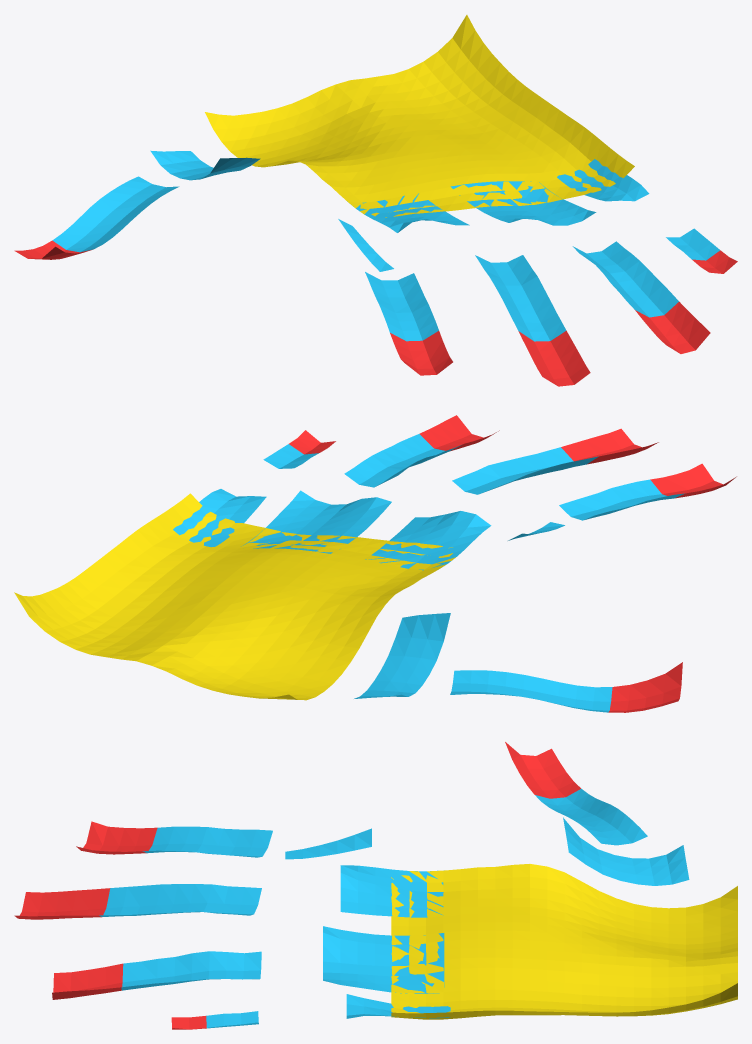
Rendered from hand0423g_finger_thirds_and_palm_aligned.obj.
3 renders of one model, top to bottom at view 1: azimuth 30°, elevation 25°; view 2: azimuth 150°, elevation 25°; view 3: azimuth 270°, elevation 25°, orthographic. The views are drawn at different scales.
Parts seen in each view (by area): view 1: palm_rectified_palm, finger_to_palm_ring, finger_to_palm_middle, finger_to_palm_thumb, finger_to_palm_index, finger_to_palm_pinky, finger_tip_third_middle, finger_tip_third_ring, finger_tip_third_index, finger_tip_third_thumb; view 2: palm_rectified_palm, finger_to_palm_thumb, finger_to_palm_ring, finger_to_palm_middle, finger_to_palm_pinky, finger_to_palm_index, finger_tip_third_thumb, finger_tip_third_middle, finger_tip_third_index, finger_tip_third_ring, finger_tip_third_pinky; view 3: palm_rectified_palm, finger_to_palm_ring, finger_to_palm_middle, finger_to_palm_thumb, finger_to_palm_index, finger_tip_third_middle, finger_tip_third_thumb, finger_to_palm_pinky, finger_tip_third_ring, finger_tip_third_index.
Boxes of the visible parts, <box> form: palm_rectified_palm: <box>205,15,634,217</box>; finger_to_palm_ring: <box>450,181,678,317</box>; finger_to_palm_middle: <box>347,193,566,341</box>; finger_to_palm_thumb: <box>52,150,260,252</box>; finger_to_palm_index: <box>338,219,438,341</box>; finger_to_palm_pinky: <box>557,159,719,260</box>; finger_tip_third_middle: <box>518,330,590,386</box>; finger_tip_third_ring: <box>635,301,710,353</box>; finger_tip_third_index: <box>390,331,452,375</box>; finger_tip_third_thumb: <box>14,240,92,259</box>; palm_rectified_palm: <box>14,493,455,700</box>; finger_to_palm_thumb: <box>354,613,612,712</box>; finger_to_palm_ring: <box>241,434,460,553</box>; finger_to_palm_middle: <box>365,447,598,570</box>; finger_to_palm_pinky: <box>173,444,318,547</box>; finger_to_palm_index: <box>508,479,685,540</box>; finger_tip_third_thumb: <box>608,662,682,712</box>; finger_tip_third_middle: <box>561,428,658,464</box>; finger_tip_third_index: <box>650,463,736,498</box>; finger_tip_third_ring: <box>419,415,499,451</box>; finger_tip_third_pinky: <box>289,430,335,454</box>; palm_rectified_palm: <box>391,864,737,1019</box>; finger_to_palm_ring: <box>121,926,444,993</box>; finger_to_palm_middle: <box>99,865,443,917</box>; finger_to_palm_thumb: <box>535,788,689,885</box>; finger_to_palm_index: <box>142,826,371,859</box>; finger_tip_third_middle: <box>14,888,110,919</box>; finger_tip_third_thumb: <box>505,742,580,798</box>; finger_to_palm_pinky: <box>206,994,450,1028</box>; finger_tip_third_ring: <box>52,963,123,999</box>; finger_tip_third_index: <box>76,821,157,854</box>.
Bounding box in the file's own units: 5.64 × 0.6772 × 6.32.
